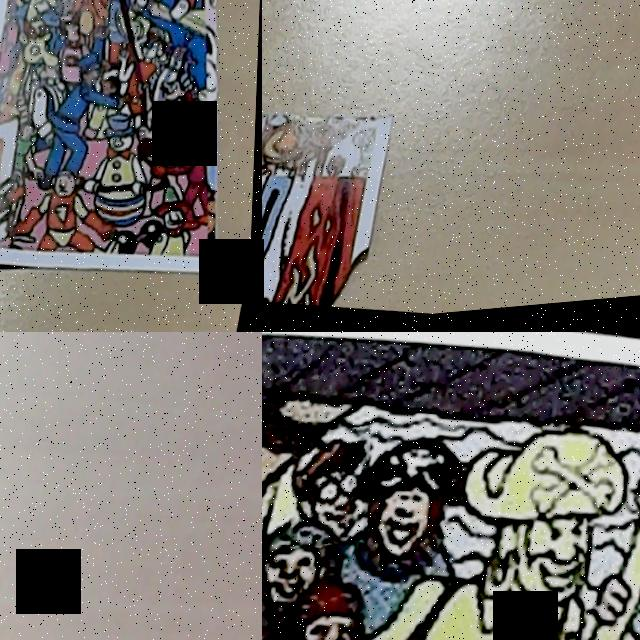waldo: (278, 423, 386, 563), (51, 0, 87, 29)
